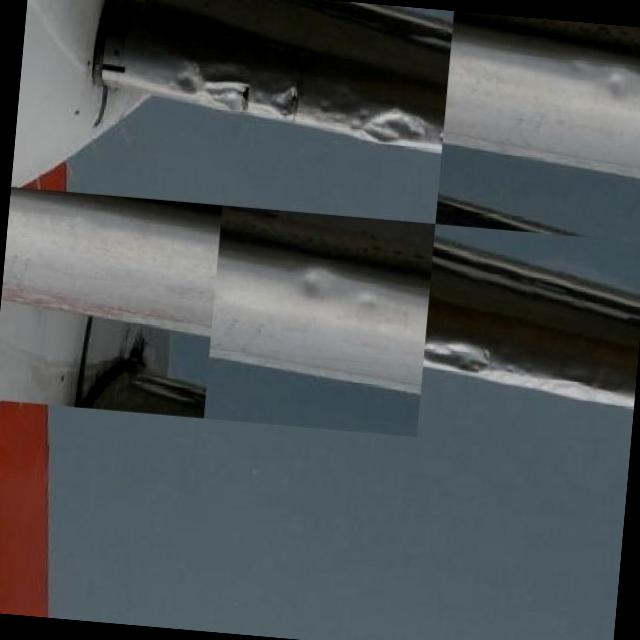dent: (543, 361, 625, 405), (361, 103, 435, 146), (422, 338, 501, 378), (290, 264, 336, 308), (206, 72, 252, 115), (161, 58, 206, 98), (268, 82, 306, 121), (313, 91, 353, 128), (355, 287, 382, 315), (603, 71, 628, 96)
